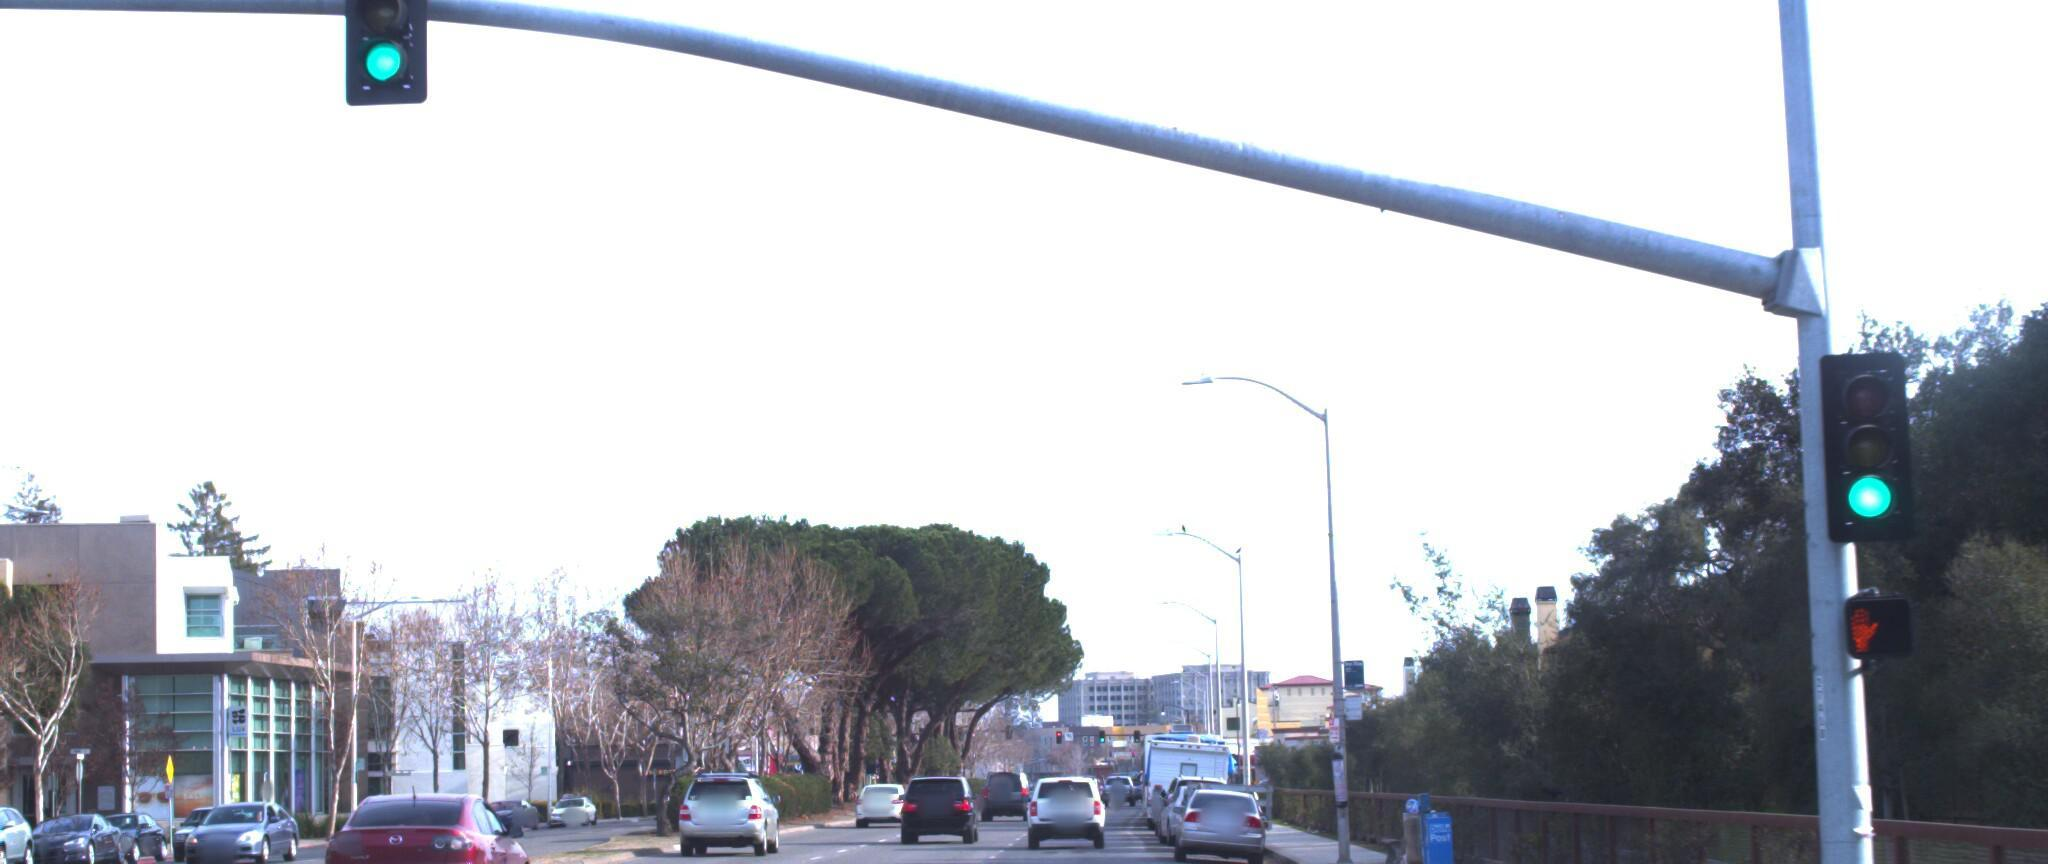car: (310, 777, 536, 864), (666, 771, 781, 860), (148, 796, 296, 864), (1024, 770, 1110, 854), (900, 771, 981, 844)
